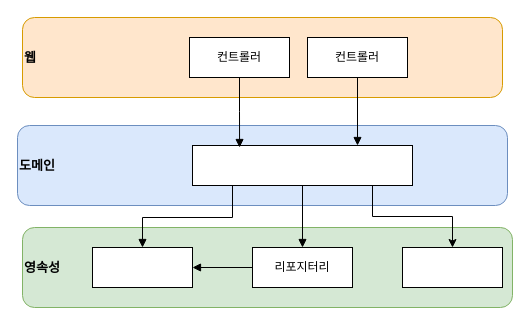
The diagram is 530 pixels wide and 325 high, and some of its shapes have lost their labels. Here are the shapes that lost their labels. From the top down, the centre of each, then its label:
the point at 302,165: 서비스
the point at 142,267: 헬퍼
the point at 452,267: 유틸리티
